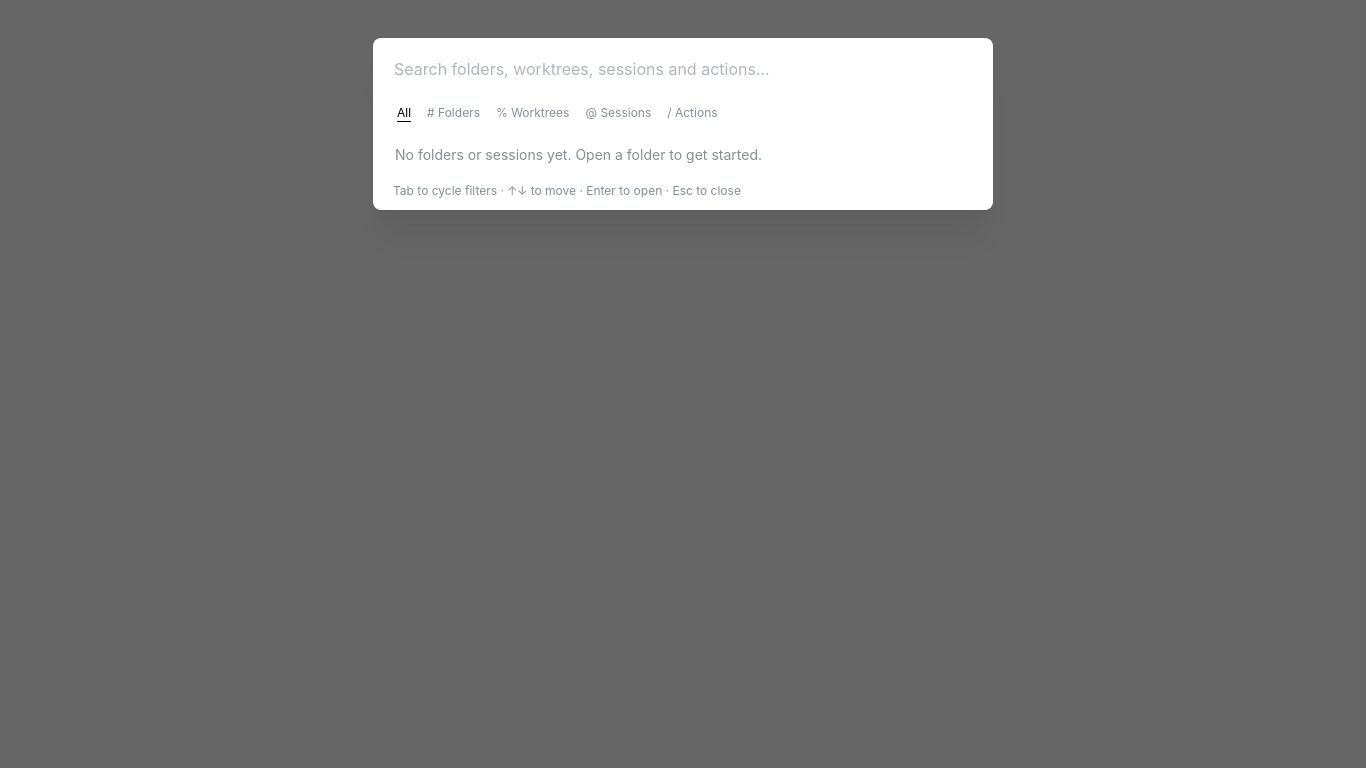
distinguishes an empty catalogue, an empty scope and no search matches
The image size is (1366, 768).
expect the text "No folders or sessions yet. Open a folder to get started." is shown: met, box x1=395 y1=146 x2=762 y2=163
In the field: (683, 69) x1=383 y1=48 x2=983 y2=90, type "missing"
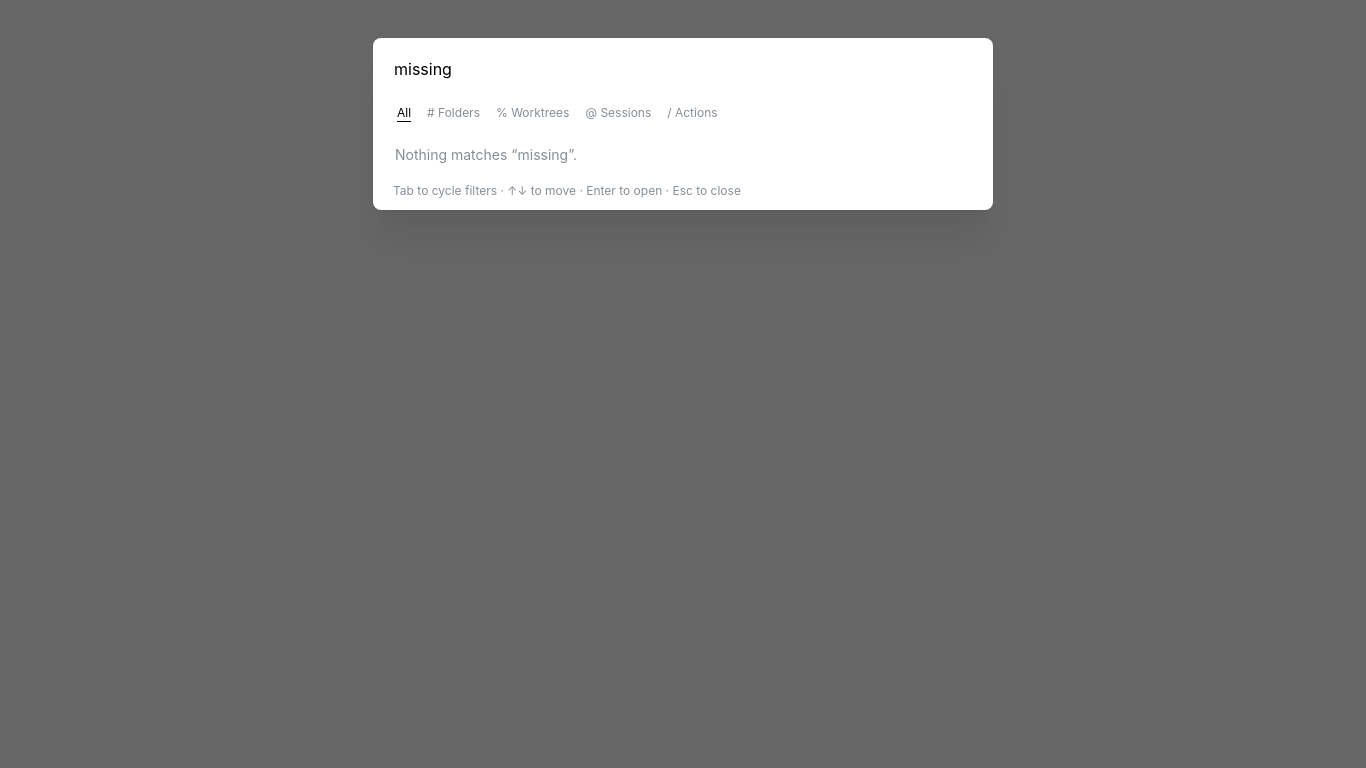
expect the text "Nothing matches “missing”." is shown: met, box x1=395 y1=146 x2=577 y2=163
Replace the text in the field with "%": (683, 69) x1=383 y1=48 x2=983 y2=90
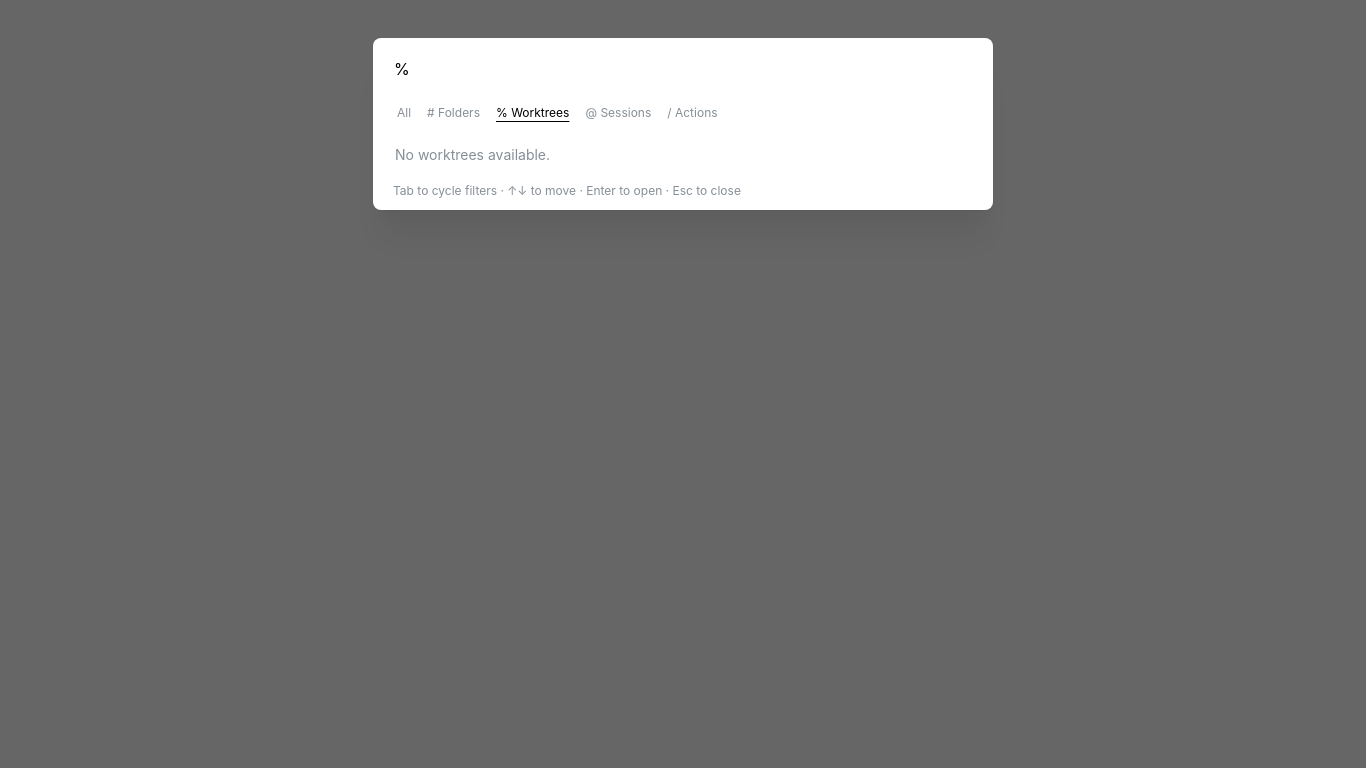
expect the text "No worktrees available." is shown: met, box x1=395 y1=146 x2=550 y2=163
Click the button "/ Actions": (692, 114) x1=661 y1=100 x2=724 y2=127
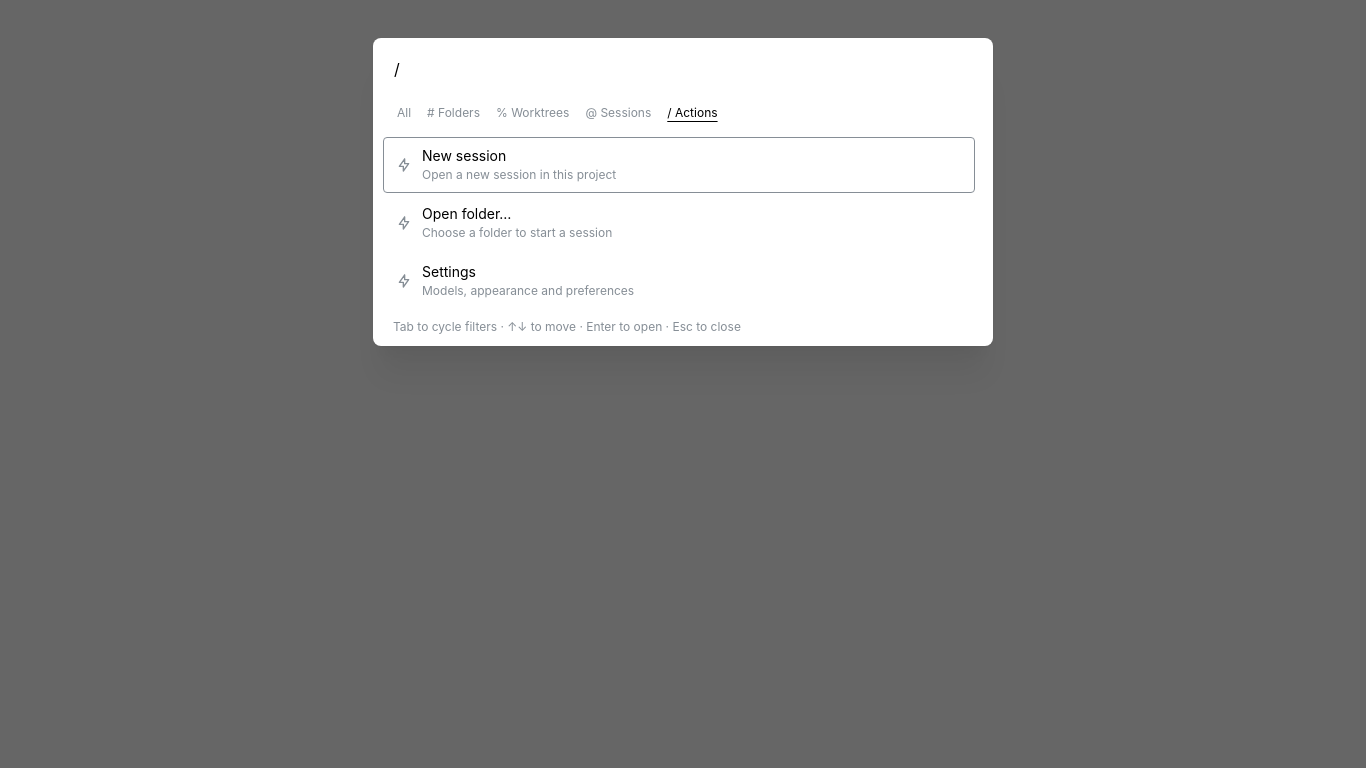
expect the number of options is 3: met, box x1=383 y1=137 x2=975 y2=193; x1=383 y1=195 x2=975 y2=251; x1=383 y1=253 x2=975 y2=309
